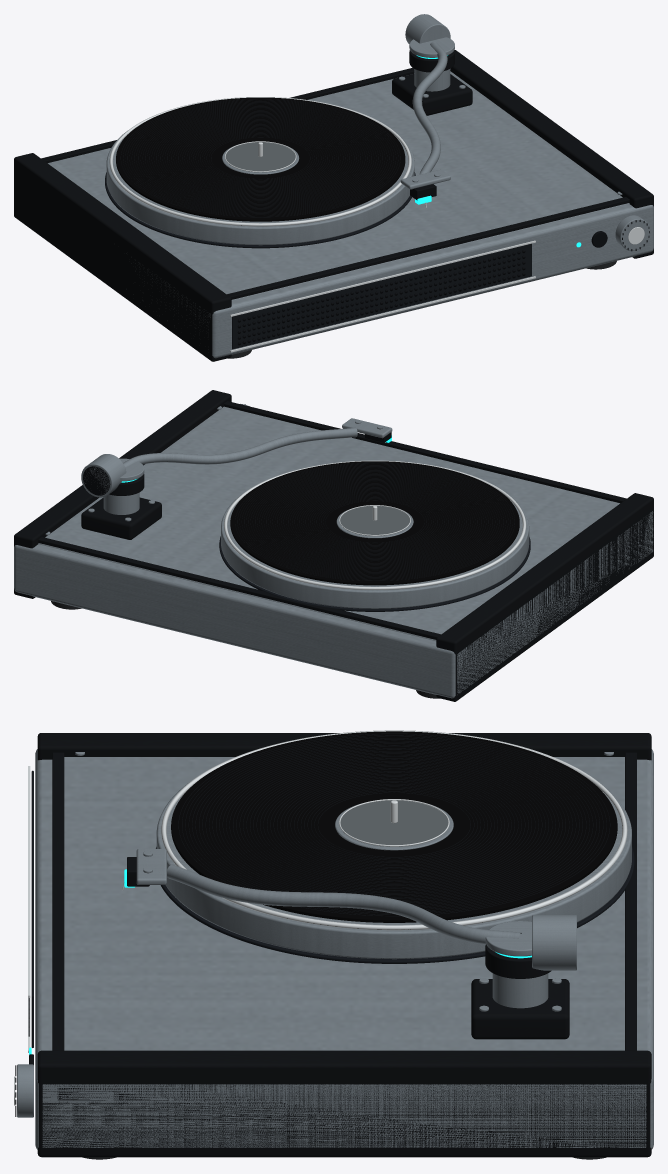
Rendered from record_player_precision.glb.
3 renders of one model, top to bottom at view 1: azimuth 30°, elevation 25°; view 2: azimuth 150°, elevation 25°; view 3: azimuth 270°, elevation 25°, orthographic. The views are drawn at different scales.
Parts seen in each view (by area): view 1: R02 machined planar top, R05 black pressed record, R02 graphite corner guard, R05 concentric vinyl groove merged detail, R02 silver alloy 650x510 chassis, R03 recessed speaker black, R04 spun titanium platter, R02 graphite corner guard.001, R03 pitch-true perforation merged detail, R02 precise cross edge trim, R04 polished platter rim, R06 bolted tonearm base (+11 smaller); view 2: R02 silver alloy 650x510 chassis, R02 machined planar top, R05 black pressed record, R02 graphite corner guard, R05 concentric vinyl groove merged detail, R04 spun titanium platter, R02 graphite corner guard.001, R02 precise cross edge trim.001, R02 precise cross edge trim, R07 coherent S tonearm, R04 polished platter rim, R06 bolted tonearm base (+6 smaller); view 3: R02 machined planar top, R05 black pressed record, R02 graphite corner guard.001, R02 silver alloy 650x510 chassis, R05 concentric vinyl groove merged detail, R04 spun titanium platter, R02 graphite corner guard, R07 coherent S tonearm, R06 bolted tonearm base, R04 polished platter rim, R02 precise cross edge trim, R05 printed center label (+11 smaller).
Boxes of the visible parts, bbox=[...] form: R02 machined planar top: bbox=[48, 71, 629, 300]; R05 black pressed record: bbox=[116, 97, 405, 221]; R02 graphite corner guard: bbox=[14, 153, 231, 361]; R05 concentric vinyl groove merged detail: bbox=[120, 99, 400, 217]; R02 silver alloy 650x510 chassis: bbox=[126, 204, 653, 358]; R03 recessed speaker black: bbox=[232, 243, 531, 349]; R04 spun titanium platter: bbox=[106, 131, 414, 245]; R02 graphite corner guard.001: bbox=[450, 50, 653, 258]; R03 pitch-true perforation merged detail: bbox=[237, 250, 525, 345]; R02 precise cross edge trim: bbox=[227, 197, 629, 299]; R04 polished platter rim: bbox=[109, 97, 411, 226]; R06 bolted tonearm base: bbox=[392, 74, 472, 115]; R02 silver alloy 650x510 chassis: bbox=[14, 511, 653, 698]; R02 machined planar top: bbox=[38, 406, 619, 640]; R05 black pressed record: bbox=[230, 461, 519, 585]; R02 graphite corner guard: bbox=[436, 493, 653, 701]; R05 concentric vinyl groove merged detail: bbox=[235, 462, 514, 580]; R04 spun titanium platter: bbox=[221, 495, 529, 608]; R02 graphite corner guard.001: bbox=[14, 390, 231, 598]; R02 precise cross edge trim.001: bbox=[38, 537, 440, 639]; R02 precise cross edge trim: bbox=[224, 401, 626, 503]; R07 coherent S tonearm: bbox=[123, 427, 357, 467]; R04 polished platter rim: bbox=[224, 460, 526, 589]; R06 bolted tonearm base: bbox=[81, 497, 161, 539]; R02 machined planar top: bbox=[64, 757, 624, 1050]; R05 black pressed record: bbox=[171, 731, 617, 922]; R02 graphite corner guard.001: bbox=[37, 1050, 651, 1157]; R02 silver alloy 650x510 chassis: bbox=[35, 749, 653, 1149]; R05 concentric vinyl groove merged detail: bbox=[178, 733, 610, 916]; R04 spun titanium platter: bbox=[156, 782, 631, 959]; R02 graphite corner guard: bbox=[37, 733, 651, 760]; R07 coherent S tonearm: bbox=[166, 864, 521, 944]; R06 bolted tonearm base: bbox=[471, 979, 569, 1039]; R04 polished platter rim: bbox=[161, 730, 627, 930]; R02 precise cross edge trim: bbox=[52, 752, 64, 1050]; R05 printed center label: bbox=[340, 800, 448, 846].
Size of the model in its own units: 0.65 by 0.194 by 0.5275.
Materials: 8 (3 with a texture image).
